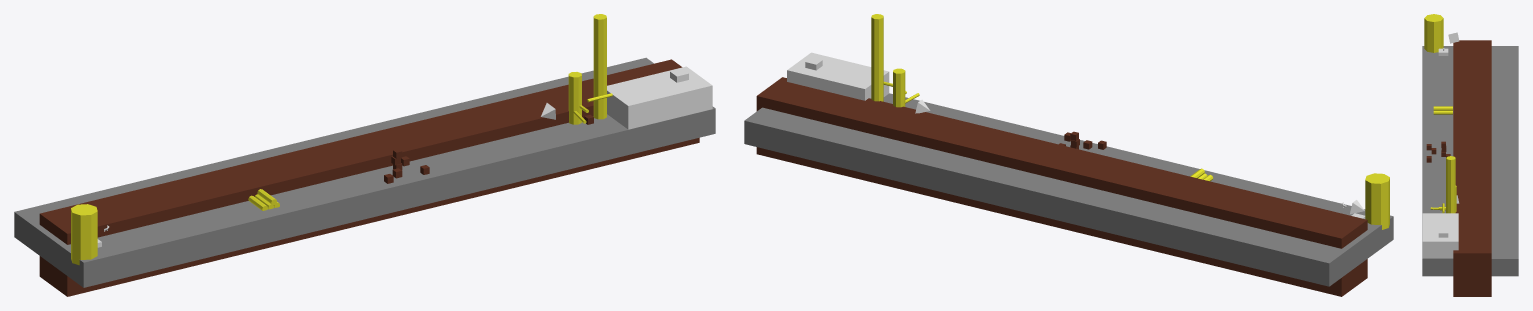
Rendered from map_forest.gltf.
3 renders of one model, left to right at view 1: azimuth 30°, elevation 25°; view 2: azimuth 150°, elevation 25°; view 3: azimuth 270°, elevation 25°, orthographic. The views are drawn at different scales.
Visible parts, largest first — view 1: Ground.007, Flora, Ground, Tree.001, Tree.031, Tree.002; view 2: Ground.007, Flora, Ground, Tree.001, Tree.031, Tree.002; view 3: Ground.007, Flora, Ground, Tree.001, Tree.031, Obstacle_Branch.014, Spawn_Bird.001, Obstacle_Branch.013, Exit, Fire.
Part boxes in pixels (x1,y1,x2,y2): Ground.007: (14, 57, 715, 287); Flora: (39, 59, 699, 296); Ground: (607, 66, 712, 129); Tree.001: (71, 204, 97, 265); Tree.031: (593, 14, 606, 119); Tree.002: (568, 72, 581, 124); Ground.007: (744, 93, 1393, 286); Flora: (756, 77, 1367, 296); Ground: (787, 52, 889, 100); Tree.001: (1365, 173, 1389, 229); Tree.031: (871, 14, 883, 101); Tree.002: (893, 68, 905, 107); Ground.007: (1422, 46, 1518, 276); Flora: (1453, 40, 1491, 296); Ground: (1422, 213, 1458, 257); Tree.001: (1424, 14, 1443, 52); Tree.031: (1446, 156, 1455, 213); Obstacle_Branch.014: (1433, 106, 1452, 110); Spawn_Bird.001: (1448, 32, 1459, 43); Obstacle_Branch.013: (1433, 110, 1452, 114); Exit: (1438, 229, 1448, 237); Fire: (1438, 48, 1448, 55).
Bounding box in the file's own units: 107 × 24.09 × 20.
